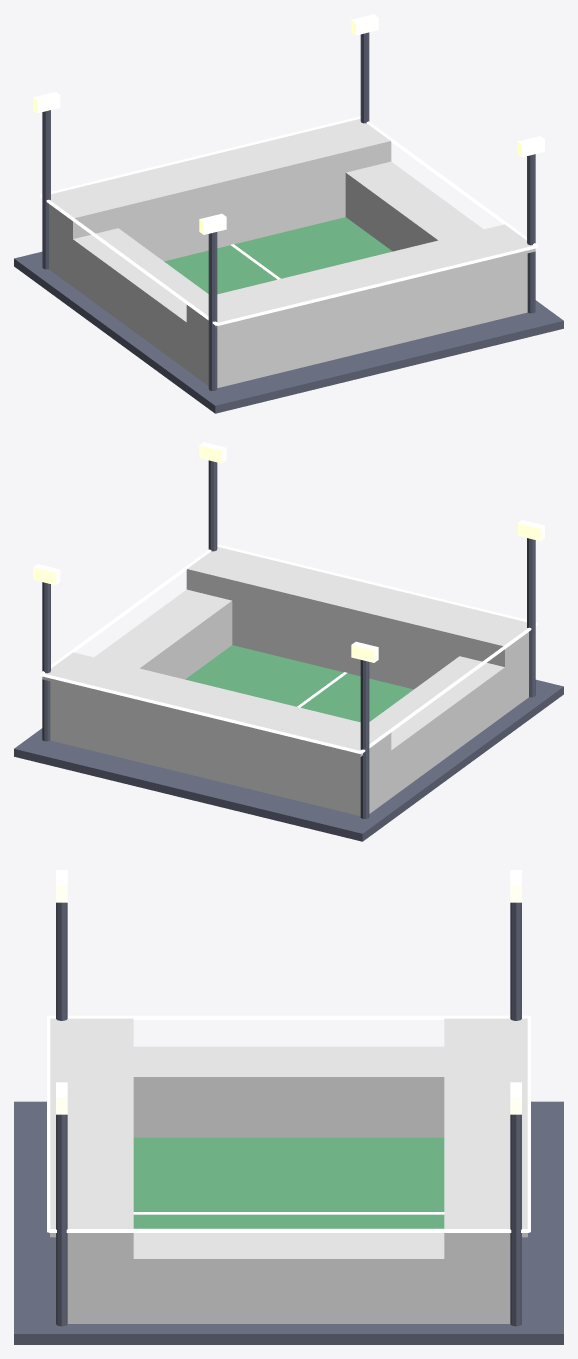
File: venue_sports.glb
3 views of the same model, one above another, from view 1: azimuth 30°, elevation 25°; view 2: azimuth 150°, elevation 25°; view 3: azimuth 270°, elevation 25° (orthographic). The views are drawn at different scales.
Visible parts, largest first — view 1: StandSouth, StandNorth, Plinth, CanopyNorth, CanopySouth, StandWest, Pitch, StandEast, Mast0, Mast1, Mast2, CanopyGlowS (+4 smaller); view 2: StandNorth, StandSouth, Plinth, CanopySouth, CanopyNorth, StandWest, Pitch, StandEast, Mast2, Mast3, Mast0, CanopyGlowN (+4 smaller); view 3: StandEast, StandWest, Pitch, Plinth, CanopyNorth, CanopySouth, StandNorth, StandSouth, Mast1, Mast3, CanopyGlowW, CanopyGlowE (+5 smaller).
Part boxes in pixels (bbox=[...]): StandSouth: bbox=[186, 253, 527, 387]; StandNorth: bbox=[49, 146, 391, 286]; Plinth: bbox=[14, 251, 563, 413]; CanopyNorth: bbox=[49, 119, 391, 223]; CanopySouth: bbox=[186, 224, 535, 328]; StandWest: bbox=[73, 228, 208, 369]; Pitch: bbox=[164, 217, 392, 294]; StandEast: bbox=[345, 161, 483, 251]; Mast0: bbox=[208, 232, 217, 390]; Mast1: bbox=[527, 154, 535, 313]; Mast2: bbox=[42, 110, 50, 269]; CanopyGlowS: bbox=[217, 245, 537, 325]; StandNorth: bbox=[50, 681, 391, 815]; StandSouth: bbox=[186, 574, 528, 714]; Plinth: bbox=[14, 679, 563, 841]; CanopySouth: bbox=[186, 547, 528, 651]; CanopyNorth: bbox=[42, 652, 391, 756]; StandWest: bbox=[369, 656, 504, 797]; Pitch: bbox=[185, 645, 413, 722]; StandEast: bbox=[94, 589, 232, 679]; Mast2: bbox=[360, 660, 369, 818]; Mast3: bbox=[42, 582, 50, 741]; Mast0: bbox=[527, 538, 535, 697]; CanopyGlowN: bbox=[40, 673, 360, 753]; StandEast: bbox=[133, 1228, 444, 1323]; StandWest: bbox=[133, 1046, 444, 1137]; Pitch: bbox=[133, 1137, 444, 1228]; Plinth: bbox=[14, 1101, 563, 1344]; CanopyNorth: bbox=[444, 1018, 527, 1237]; CanopySouth: bbox=[50, 1018, 133, 1237]; StandNorth: bbox=[444, 1237, 510, 1323]; StandSouth: bbox=[67, 1237, 133, 1323]; Mast1: bbox=[56, 1114, 67, 1326]; Mast3: bbox=[510, 1114, 521, 1326]; CanopyGlowW: bbox=[48, 1015, 529, 1019]; CanopyGlowE: bbox=[48, 1229, 529, 1232].
Bounding box in the file's own units: 46 × 22.6 × 46.
